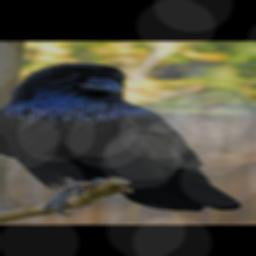Crow: (0, 61, 240, 216)
